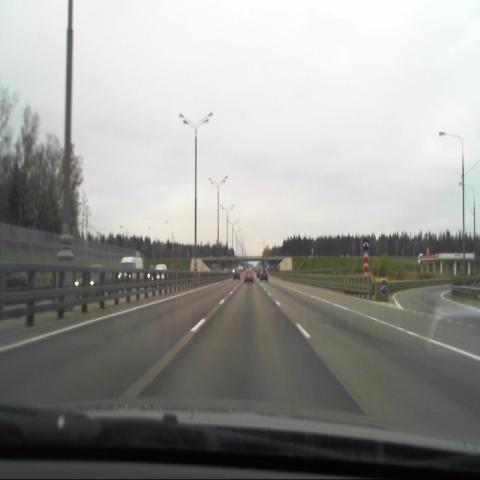4_2_3: (379, 280, 388, 295), (362, 237, 369, 251)
